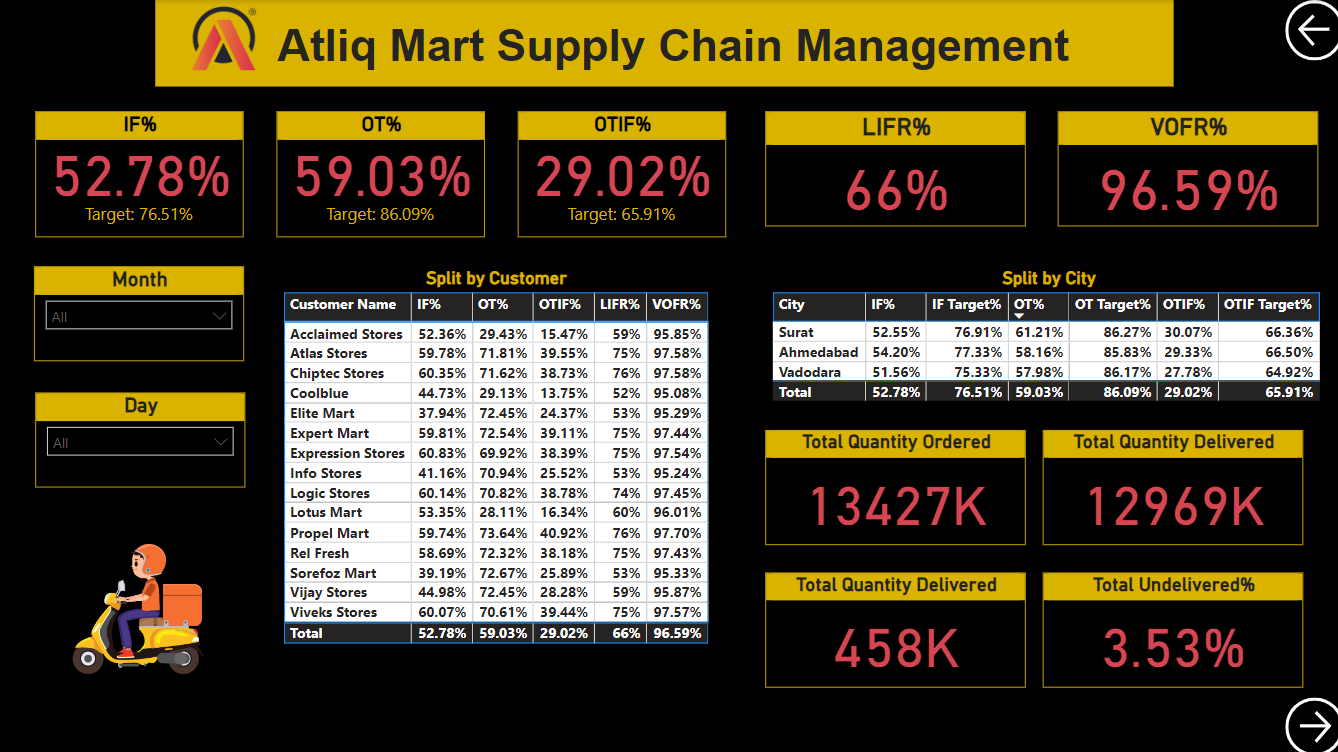

What the dashboard file says about the page in this screenshot:
{"tool":"powerbi","page":{"name":"Page 2","canvas":[1280,720],"ordinal":1},"visuals":[{"type":"card","title":"LIFR%","fields":{"Values":["fact_order_lines.Line Fill Rate"]},"box":[729.4,106.2,248.3,109.3],"z":0},{"type":"card","title":"VOFR%","fields":{"Values":["fact_order_lines.Volume Fill Rate"]},"box":[1008.4,106.4,248.3,109.3],"z":1000},{"type":"textbox","box":[148.4,0,969.9,82.8],"z":2000},{"type":"image","box":[164,0,100,71.8],"z":3000},{"type":"slicer","title":"Month","fields":{"Values":["fact_order_lines.order_placement_date.Variation.Date Hierarchy.Month"]},"box":[32.8,253,199.9,90.6],"z":4000},{"type":"slicer","title":"Day","fields":{"Values":["fact_order_lines.order_placement_date.Variation.Date Hierarchy.Day"]},"box":[34.4,373.3,199.9,90.6],"z":5000},{"type":"kpi","title":"IF%","fields":{"Goal":["dim_taregt_orders.IN FULL Target"],"TrendLine":["fact_order_lines.order_id"],"Indicator":["fact_order_aggregate.IF%"]},"box":[34.4,106.2,198.4,120.3],"z":6000},{"type":"kpi","title":"OT%","fields":{"TrendLine":["fact_order_lines.order_id"],"Goal":["dim_taregt_orders.On Time Target"],"Indicator":["fact_order_aggregate.OT%"]},"box":[263.9,106.2,198.4,120.3],"z":7000},{"type":"kpi","title":"OTIF%","fields":{"Goal":["dim_taregt_orders.OTIF Target"],"TrendLine":["fact_order_lines.order_id"],"Indicator":["fact_order_aggregate.OTIF%"]},"box":[493.5,106.2,198.4,120.3],"z":8000},{"type":"image","box":[56.2,506,153.1,148.4],"z":9000},{"type":"tableEx","title":"Split by Customer","fields":{"Values":["dim_customers.customer_name","fact_order_aggregate.IF%","fact_order_aggregate.OT%","fact_order_aggregate.OTIF%","fact_order_lines.Line Fill Rate","fact_order_lines.Volume Fill Rate"]},"box":[263.9,253,417,371.7],"z":10000},{"type":"tableEx","title":"Split by City","fields":{"Values":["dim_customers.city","fact_order_aggregate.IF%","dim_taregt_orders.IN FULL Target","fact_order_aggregate.OT%","dim_taregt_orders.On Time Target","fact_order_aggregate.OTIF%","dim_taregt_orders.OTIF Target"]},"box":[729.4,253,538.8,142.1],"z":11000},{"type":"card","title":"Total Quantity Ordered","fields":{"Values":["fact_order_lines.TOTAL QUANTITY ORDERED"]},"box":[729.4,409.2,248.3,109.3],"z":12000},{"type":"card","title":"Total Quantity Delivered","fields":{"Values":["fact_order_lines.TOTAL QUANTITY DELIEVERED"]},"box":[993.3,409.2,248.3,109.3],"z":13000},{"type":"card","title":"Total Quantity Delivered","fields":{"Values":["fact_order_lines.TOTAL QUANTITY UNDELIEVERED"]},"box":[729.4,545.1,248.3,109.3],"z":14000},{"type":"card","title":"Total Undelivered%","fields":{"Values":["fact_order_lines.TOTAL UNDELIEVERD %"]},"box":[993.3,545.1,248.3,109.3],"z":15000},{"type":"actionButton","box":[1224.5,663.8,56.2,56.2],"z":16000},{"type":"actionButton","box":[1224.5,0,56.2,57.8],"z":17000}]}

Visuals, with their boxes in screenshot pixels (x1, y1, x2, y2), scaled from the page's 1280x720 canvas onto the 1338x752 screenshot:
"LIFR%" card: locate(762, 111, 1022, 225)
"VOFR%" card: locate(1054, 111, 1314, 225)
textbox: locate(155, 0, 1169, 86)
image: locate(171, 0, 276, 75)
"Month" slicer: locate(34, 264, 243, 359)
"Day" slicer: locate(36, 390, 245, 485)
"IF%" kpi: locate(36, 111, 243, 237)
"OT%" kpi: locate(276, 111, 483, 237)
"OTIF%" kpi: locate(516, 111, 723, 237)
image: locate(59, 528, 219, 683)
"Split by Customer" tableEx: locate(276, 264, 712, 652)
"Split by City" tableEx: locate(762, 264, 1326, 413)
"Total Quantity Ordered" card: locate(762, 427, 1022, 542)
"Total Quantity Delivered" card: locate(1038, 427, 1298, 542)
"Total Quantity Delivered" card: locate(762, 569, 1022, 683)
"Total Undelivered%" card: locate(1038, 569, 1298, 683)
actionButton: locate(1280, 693, 1337, 751)
actionButton: locate(1280, 0, 1337, 60)
